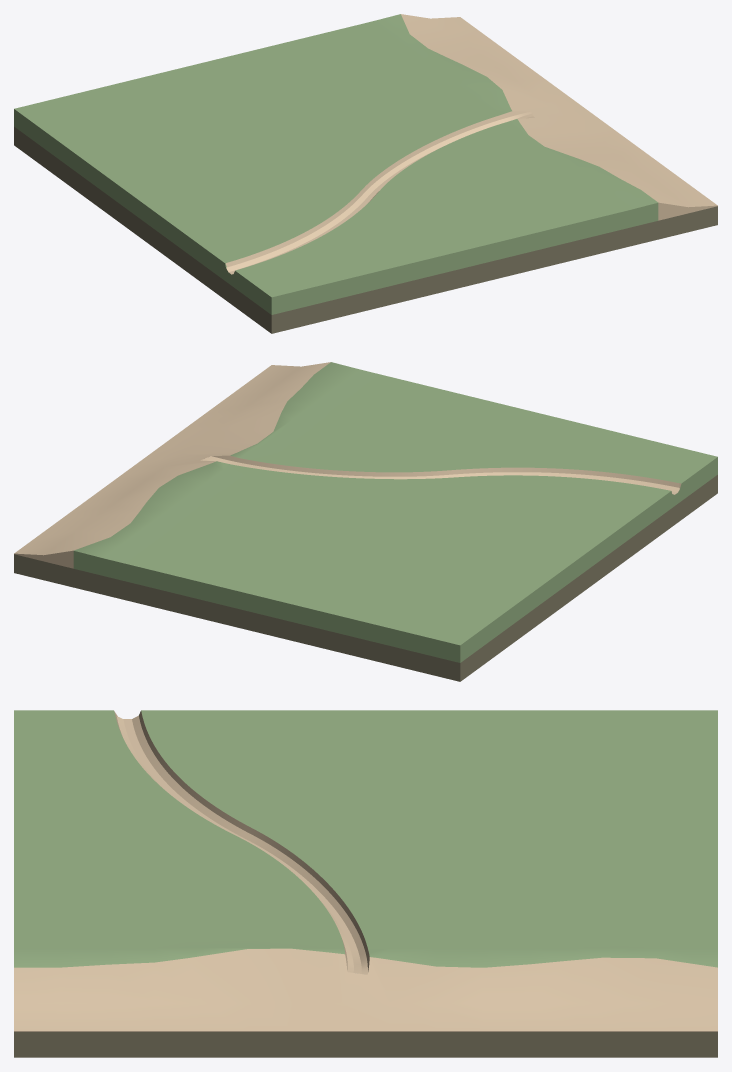
File: Mapper.fbx
3 views of the same model, one above another, from view 1: azimuth 30°, elevation 25°; view 2: azimuth 150°, elevation 25°; view 3: azimuth 270°, elevation 25° (orthographic). The views are drawn at different scales.
Visible parts, largest first — view 1: Mapper; view 2: Mapper; view 3: Mapper.
Part boxes in pixels (left/top/right/bottom): Mapper: left=14, top=14, right=717, bottom=333; Mapper: left=14, top=362, right=717, bottom=681; Mapper: left=14, top=710, right=717, bottom=1057.
Size of the model in its own units: 23.74 by 1.88 by 23.74.
